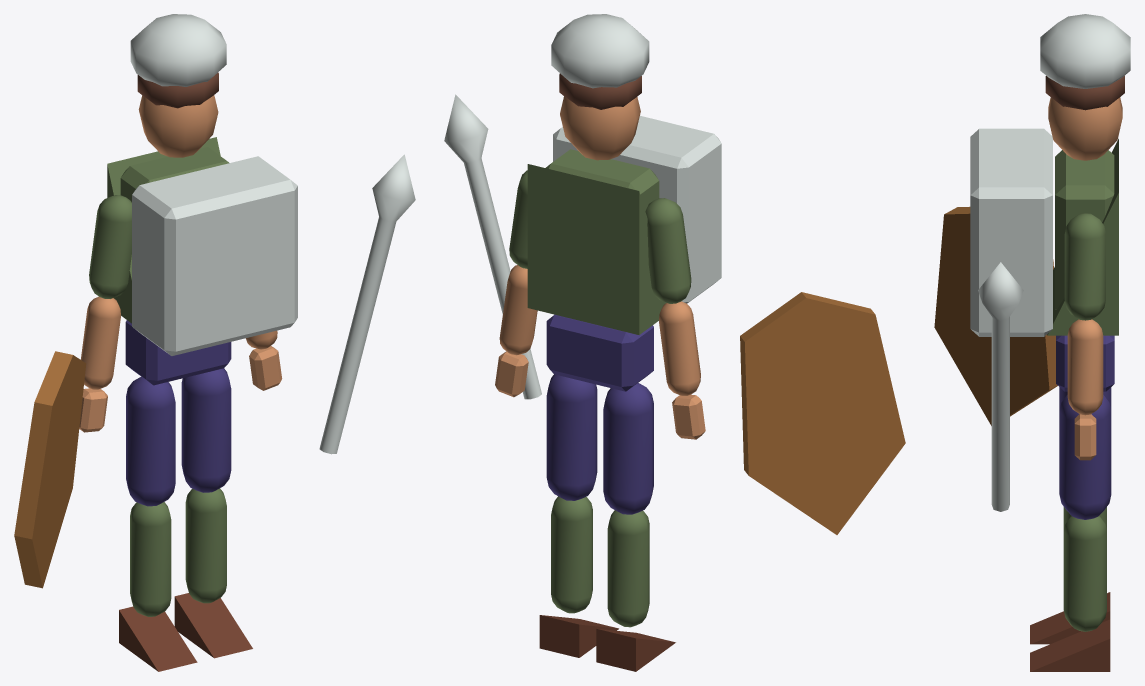
The model's file is adventurer.rustic.glb.
3 views of the same model, side by side, from view 1: azimuth 30°, elevation 25°; view 2: azimuth 150°, elevation 25°; view 3: azimuth 270°, elevation 25° (orthographic).
Parts seen in each view (by area): view 1: accessory.body, accessory.off-hand, accessory.main-hand, thigh.left, thigh.right, accessory.head, shin.right, shin.left, upper-arm.left, head, pelvis, foot.right (+7 smaller); view 2: accessory.off-hand, tunic, accessory.body, pelvis, thigh.left, thigh.right, accessory.head, accessory.main-hand, shin.left, shin.right, upper-arm.left, head (+9 smaller); view 3: accessory.body, accessory.off-hand, accessory.head, accessory.main-hand, thigh.right, shin.right, torso, upper-arm.right, head, forearm.right, tunic, foot.right (+4 smaller).
Part boxes in pixels (x1=…): accessory.body: x1=132, y1=156, x2=297, y2=355; accessory.off-hand: x1=14, y1=351, x2=86, y2=588; accessory.main-hand: x1=319, y1=154, x2=415, y2=454; thigh.left: x1=126, y1=376, x2=175, y2=506; thigh.right: x1=181, y1=368, x2=231, y2=492; accessory.head: x1=130, y1=14, x2=226, y2=86; shin.right: x1=185, y1=488, x2=226, y2=603; shin.left: x1=130, y1=502, x2=171, y2=616; upper-arm.left: x1=89, y1=195, x2=131, y2=298; head: x1=138, y1=95, x2=218, y2=157; pelvis: x1=125, y1=320, x2=231, y2=385; foot.right: x1=174, y1=593, x2=252, y2=658; accessory.off-hand: x1=740, y1=292, x2=905, y2=534; tunic: x1=527, y1=164, x2=666, y2=334; accessory.body: x1=553, y1=115, x2=721, y2=303; pelvis: x1=546, y1=314, x2=653, y2=391; thigh.left: x1=603, y1=383, x2=653, y2=514; thigh.right: x1=546, y1=374, x2=597, y2=500; accessory.head: x1=551, y1=14, x2=649, y2=88; accessory.main-hand: x1=444, y1=94, x2=541, y2=399; shin.left: x1=607, y1=510, x2=649, y2=627; shin.right: x1=551, y1=496, x2=592, y2=613; upper-arm.left: x1=645, y1=198, x2=691, y2=303; head: x1=560, y1=96, x2=640, y2=160; accessory.body: x1=970, y1=128, x2=1052, y2=336; accessory.off-hand: x1=934, y1=206, x2=1057, y2=425; accessory.head: x1=1040, y1=14, x2=1130, y2=88; accessory.main-hand: x1=978, y1=262, x2=1023, y2=511; thigh.right: x1=1059, y1=395, x2=1111, y2=519; shin.right: x1=1063, y1=516, x2=1106, y2=631; torso: x1=1055, y1=150, x2=1114, y2=309; upper-arm.right: x1=1064, y1=213, x2=1105, y2=320; head: x1=1048, y1=97, x2=1122, y2=160; forearm.right: x1=1067, y1=319, x2=1103, y2=415; tunic: x1=1047, y1=138, x2=1118, y2=335; foot.right: x1=1030, y1=619, x2=1110, y2=671.
Size of the model in its own units: 2.29 by 3.2 by 0.9041.
